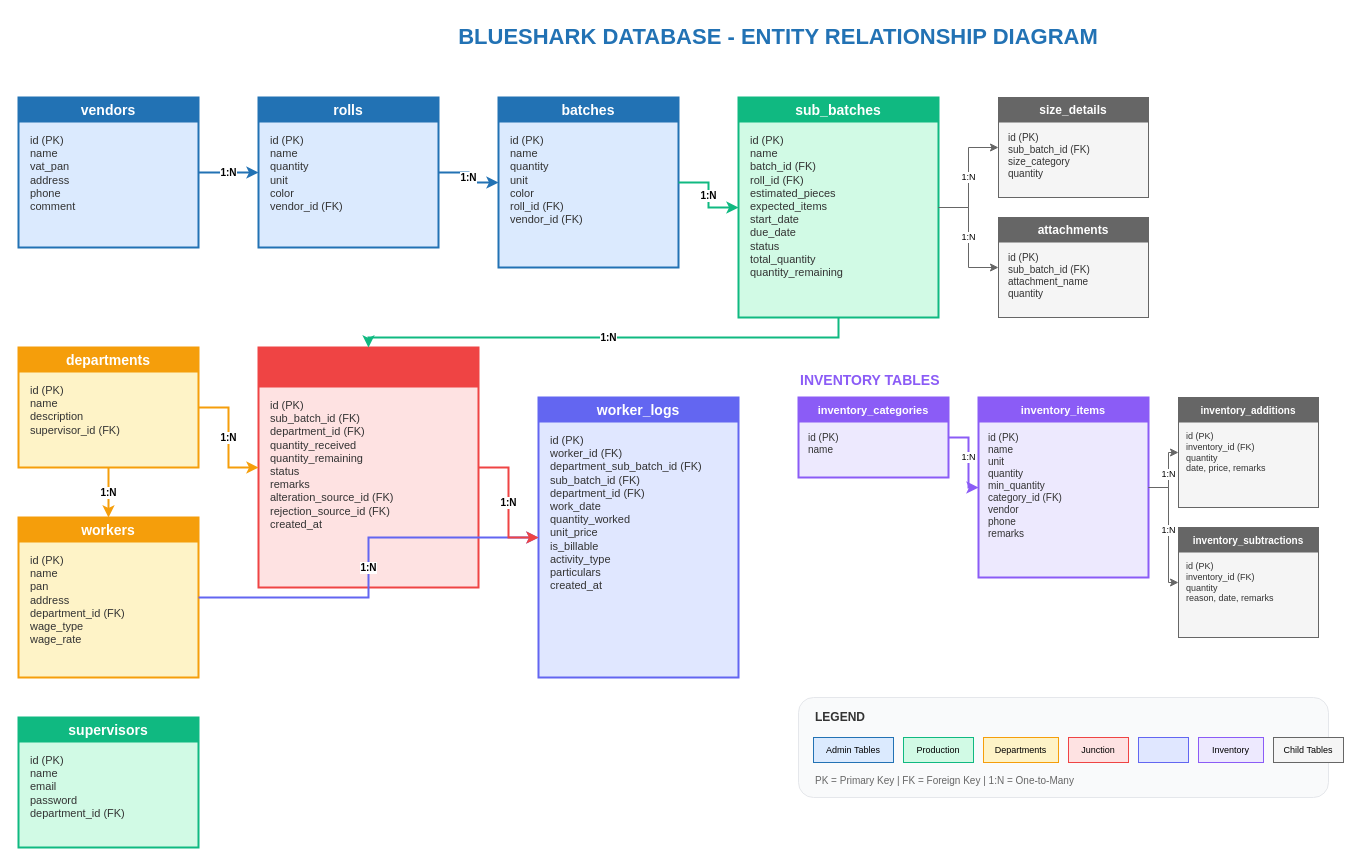
Image size: 1361x865. Some labels were removed from this diagram. The shapes that lost their labels are listed below. From the top down, each one's centre as x and y in pixels, then its label:
At point 368,367: "department_sub_batches (JUNCTION TABLE)".
At point 1163,749: "Logs".
